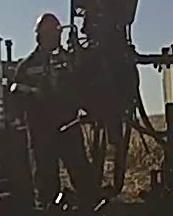helmet: (33, 13, 63, 37)
vest: (19, 49, 80, 131)
